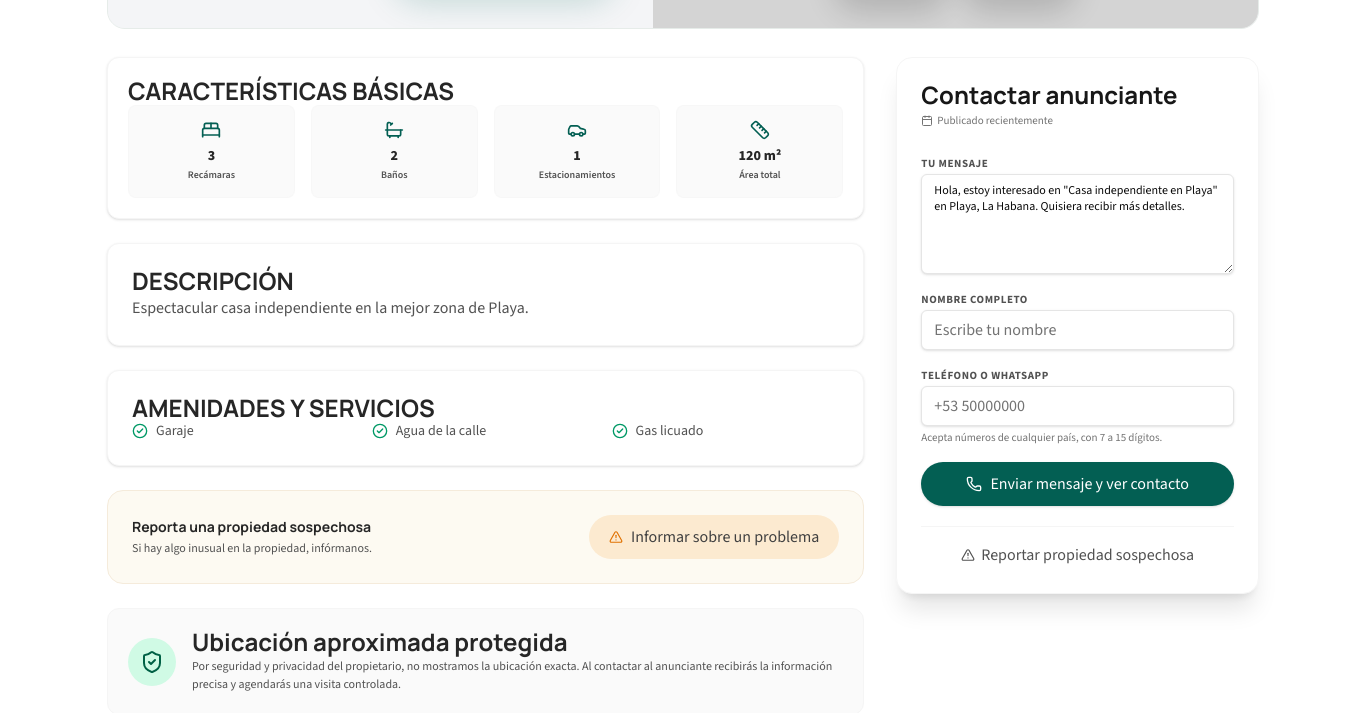
Test: DetailPage - Reportes y Visor › rechaza un teléfono inválido antes de enviar la consulta
The image size is (1366, 713).
(page scrolled)
Type "Ana Pérez" into the field labelled "Nombre completo" at (1078, 330), box [921,310,1234,350]
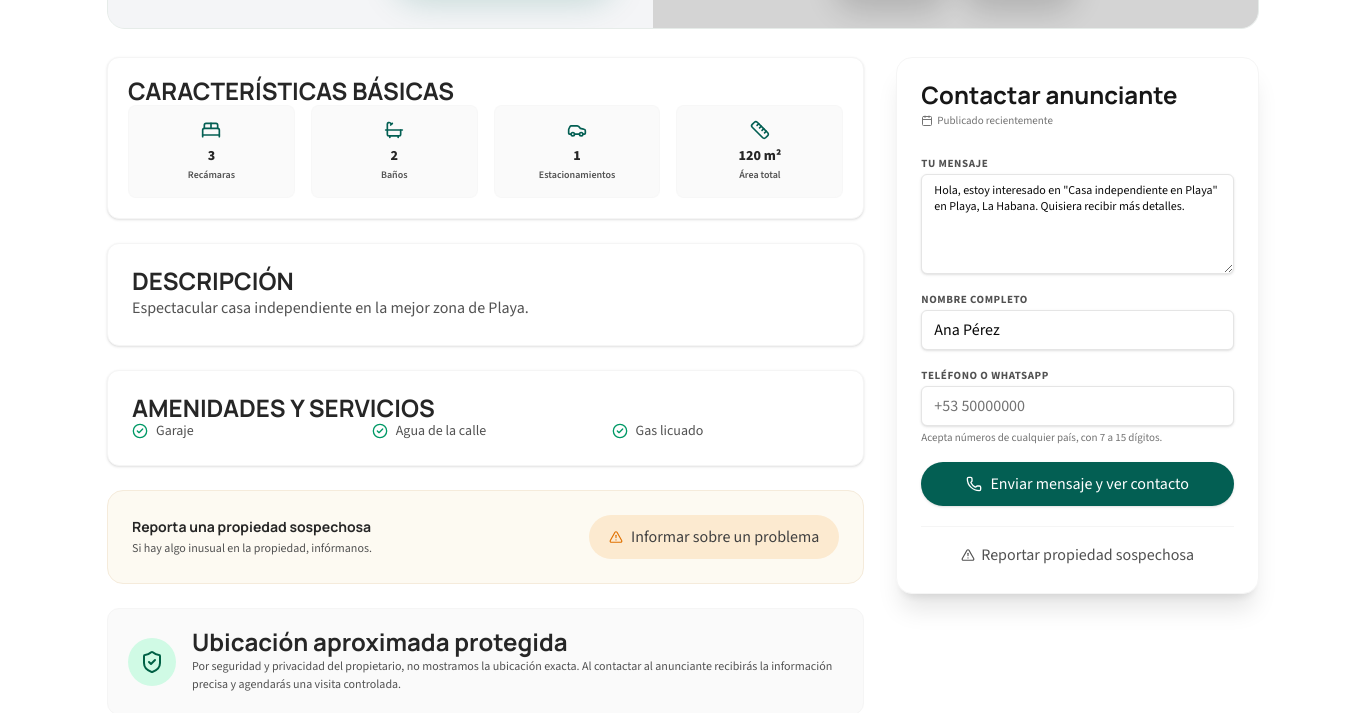
Type "abc---123" into the field labelled "Teléfono o WhatsApp" at (1078, 406), box [921,386,1234,426]
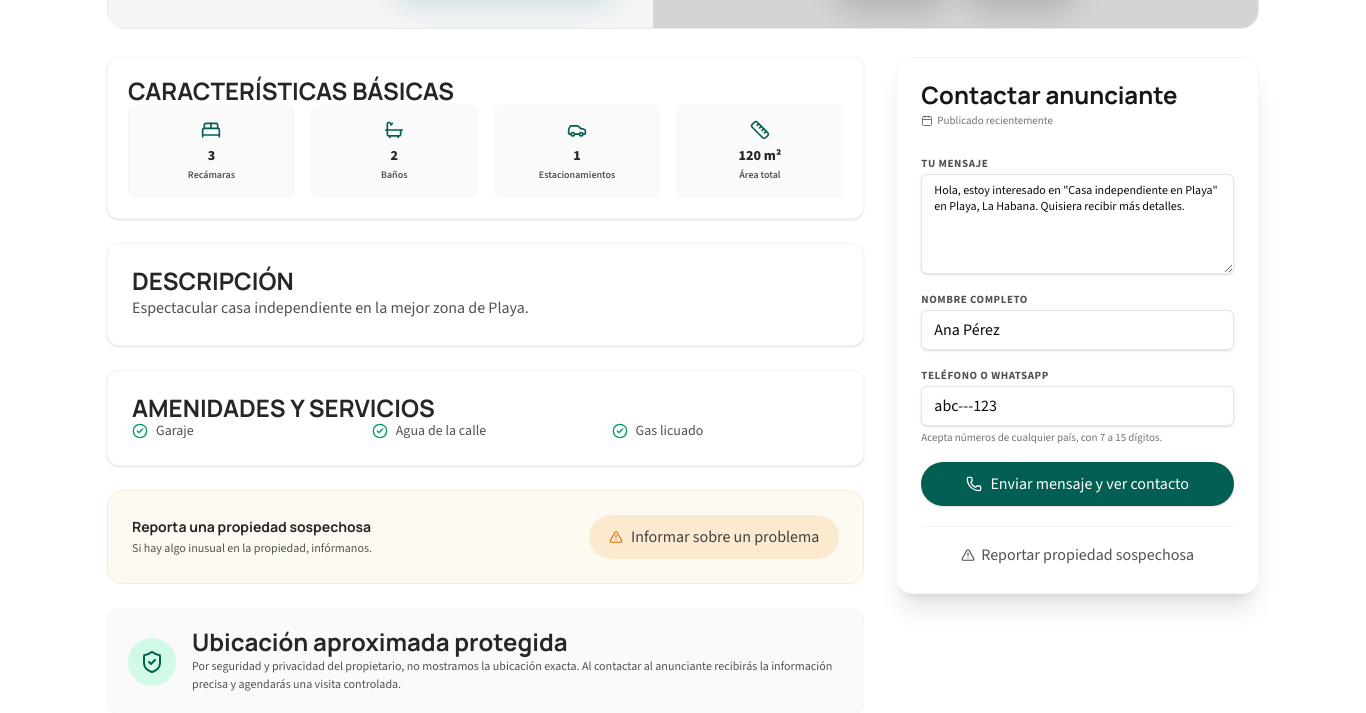
Click the button "Enviar mensaje y ver contacto" at (1078, 484), box [921,462,1234,506]
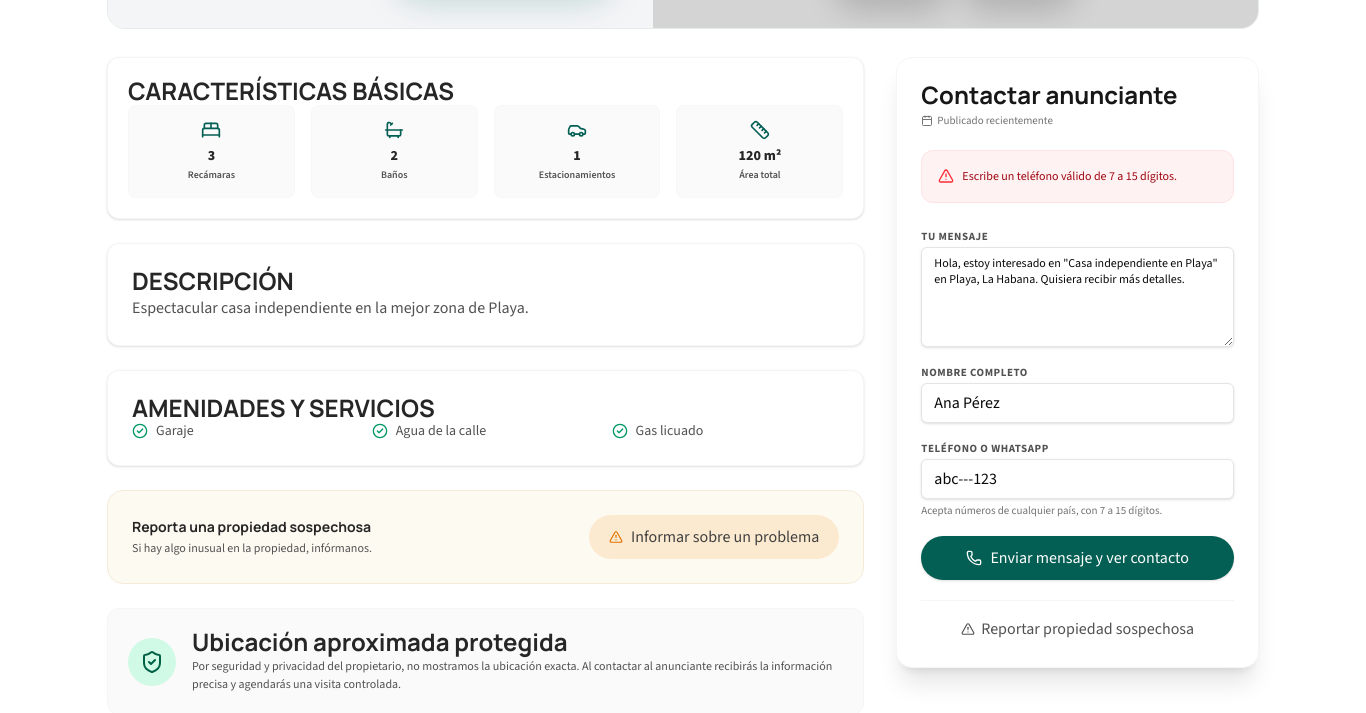
Now the text "Escribe un teléfono válido de 7 a 15 dígitos." is shown, box [962,167,1177,186]
